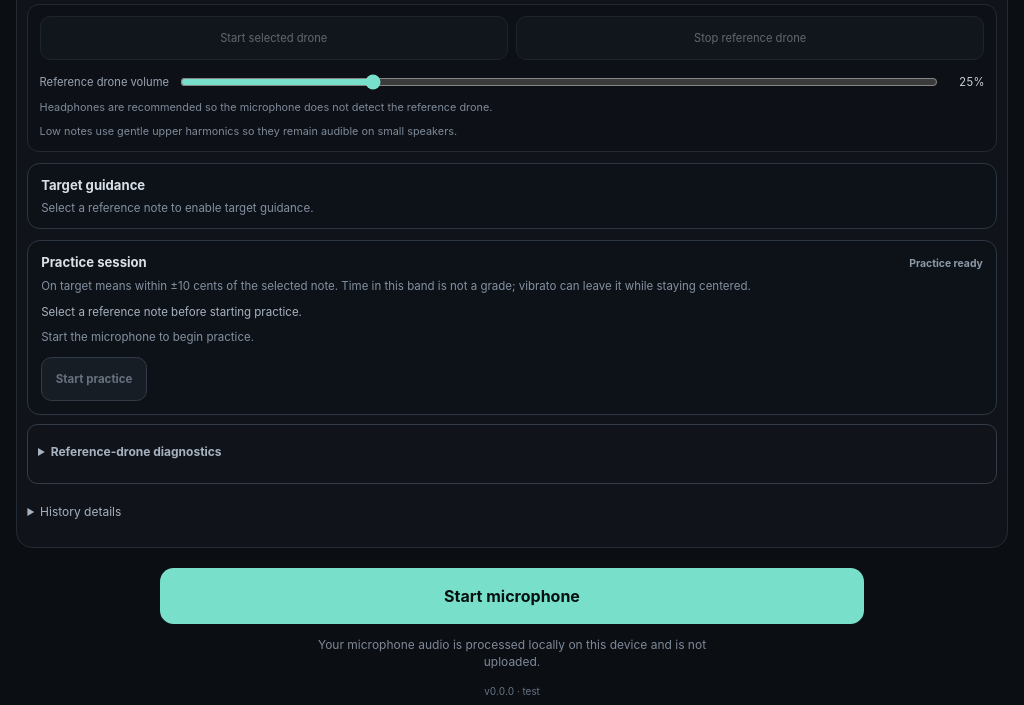
App › shows an accessible unsupported state
(page scrolled)
Click the button "Start microphone". click: coordinates (512, 596)
box: [160,568,864,624]
(page scrolled)
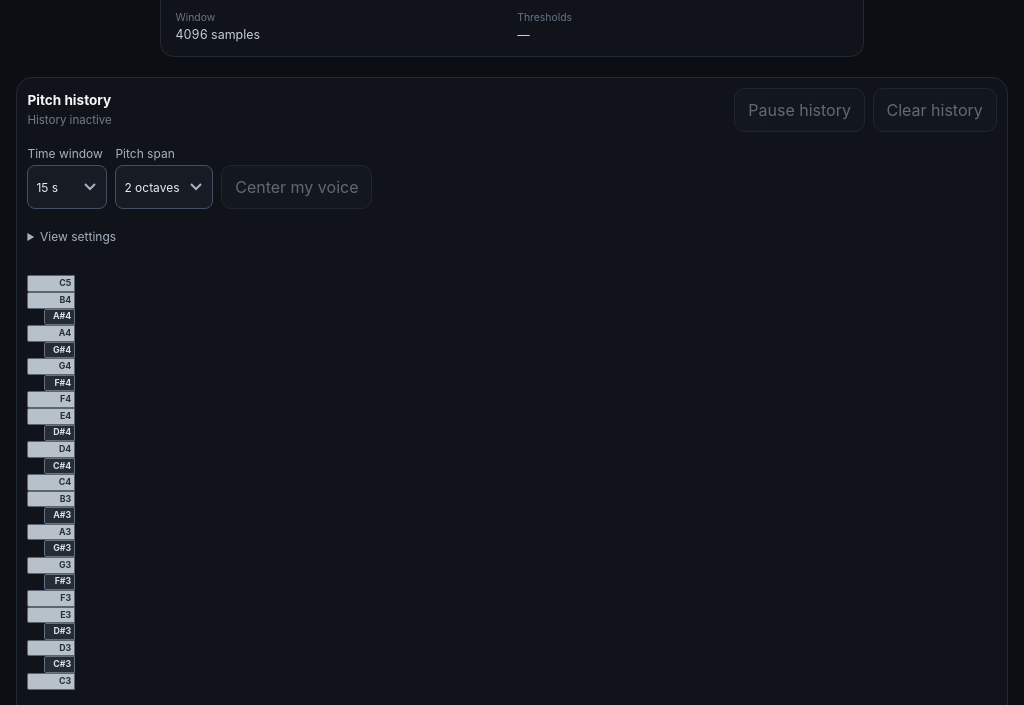
Click the button named "Reference note A4, 440.0 hertz". click: coordinates (51, 334)
box: [27,325,75,342]
(page scrolled)
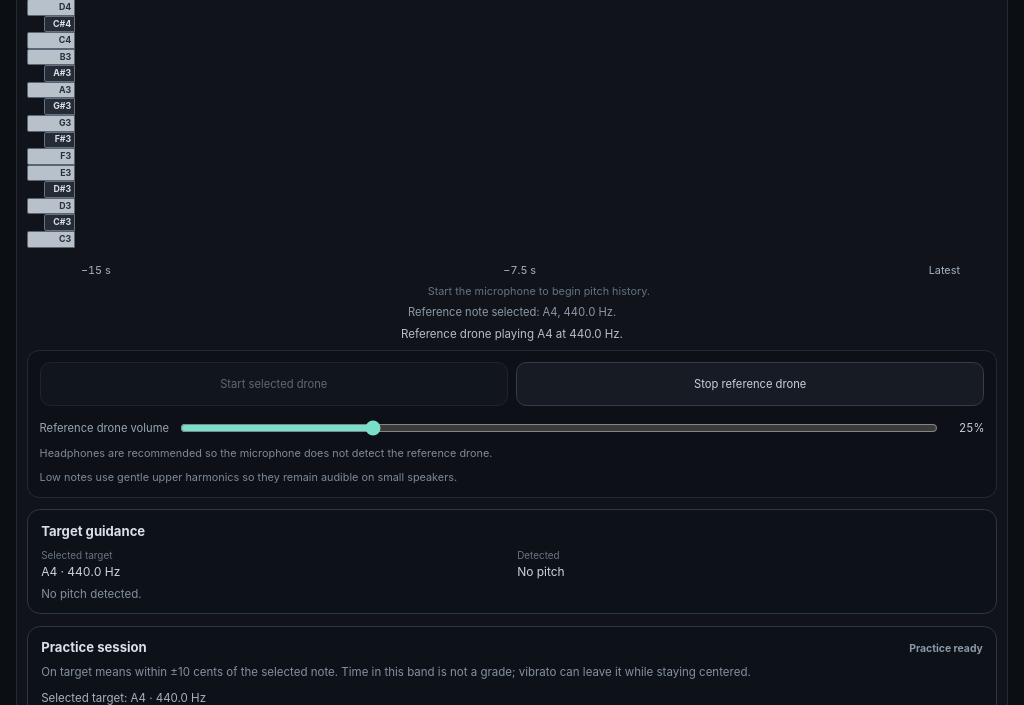
Result: the message named "Reference drone status" shows "Reference drone playing A4" at [401,327,623,341]
